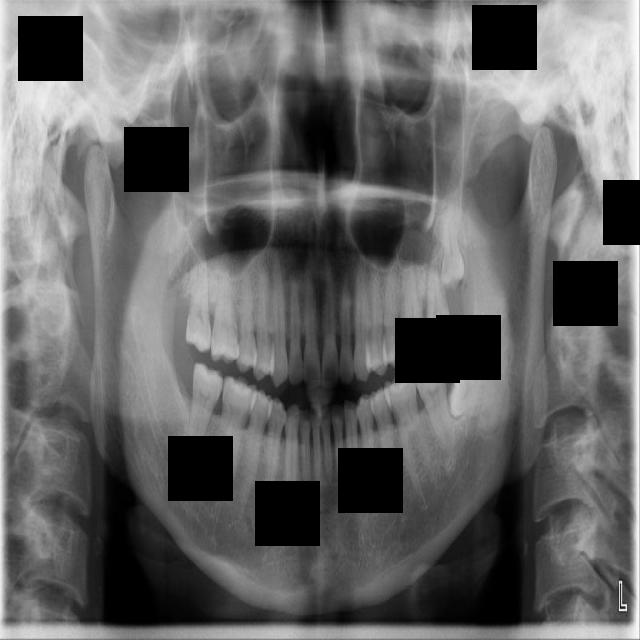73: (604, 588, 608, 602)
BioHorizons Implant: (422, 245, 452, 348)
BioLife Implant: (440, 199, 469, 292)
Biomet 3i Implant: (447, 360, 495, 421)
Blue Sky Bio Implant: (412, 355, 457, 462)
Caries: (185, 242, 216, 353)
Implant: (182, 361, 226, 461)
